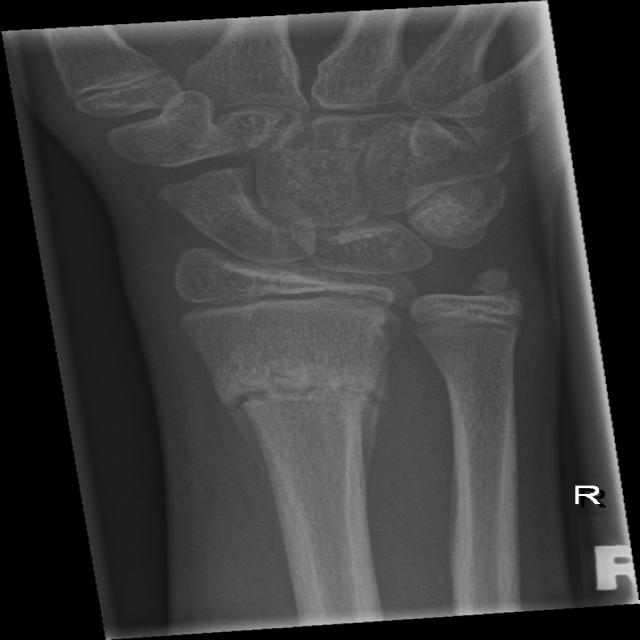radius fracture: (200, 340, 418, 474)
